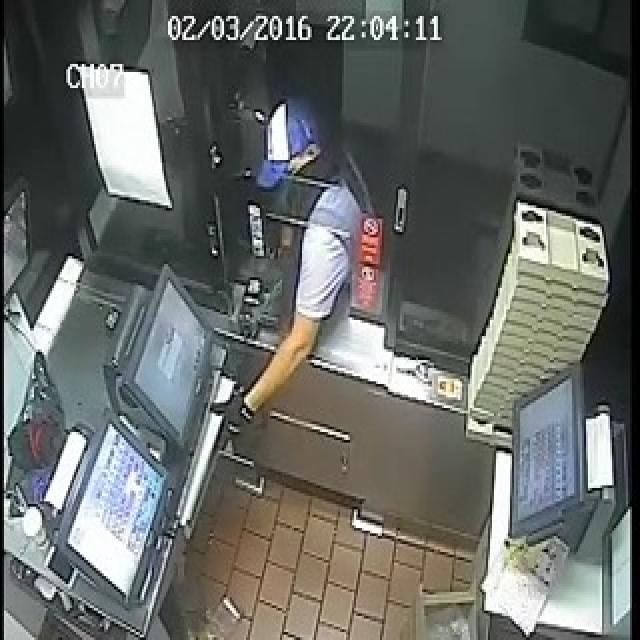thief: (259, 117, 364, 308)
